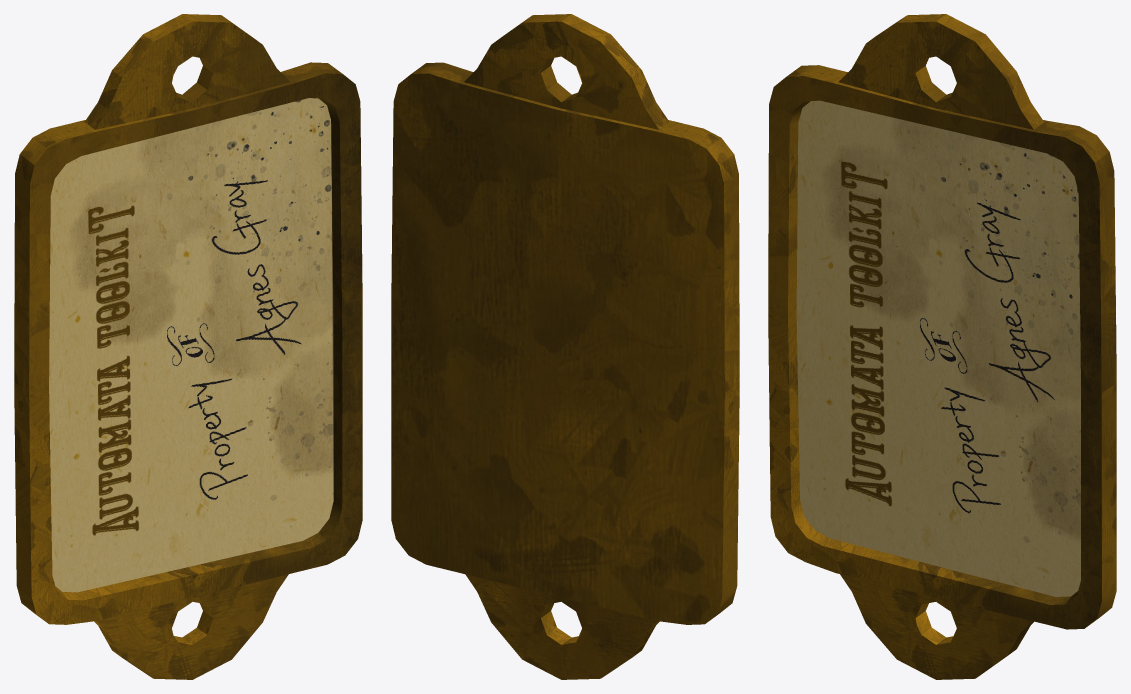
The model's file is agnes_tag.fbx.
The picture shows the model from 3 angles, left to right: view 1: azimuth 30°, elevation 25°; view 2: azimuth 150°, elevation 25°; view 3: azimuth 330°, elevation 25°; orthographic projection.
Visible parts, largest first — view 1: palacecard1; view 2: palacecard1; view 3: palacecard1.
Boxes of the visible parts, x1,y1,x2,y2 form: palacecard1: (14,14,362,679); palacecard1: (391,14,739,679); palacecard1: (768,14,1116,679).
Bounding box in the file's own units: 2.23 × 4.2 × 0.1732.
